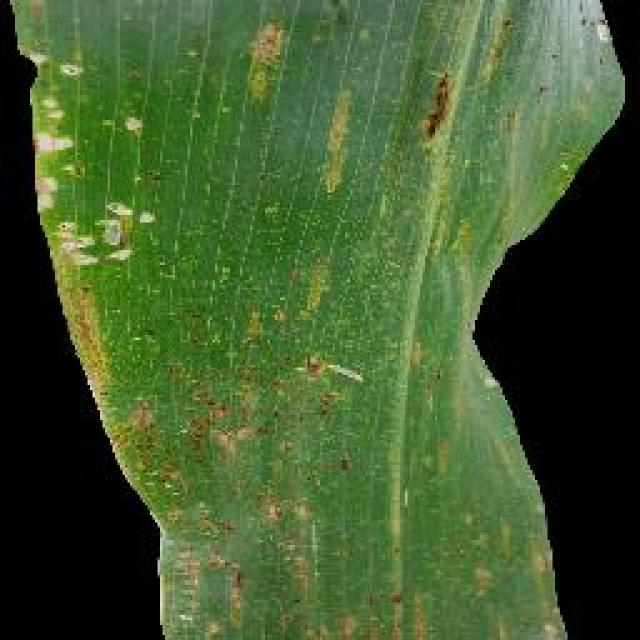Corn Common Rust: (107, 116, 540, 622)
